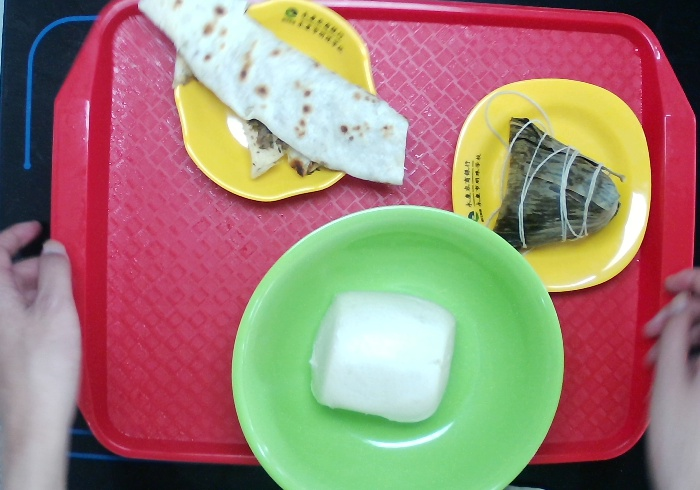YKMZ-Huang_Se_Ao_Bian_Wan: (170, 3, 379, 201)
YKMZ-Huang_Se_Fang_Die: (446, 77, 652, 296)
YKMZ-Lv_Se_Tang_Wan: (226, 203, 565, 490)
